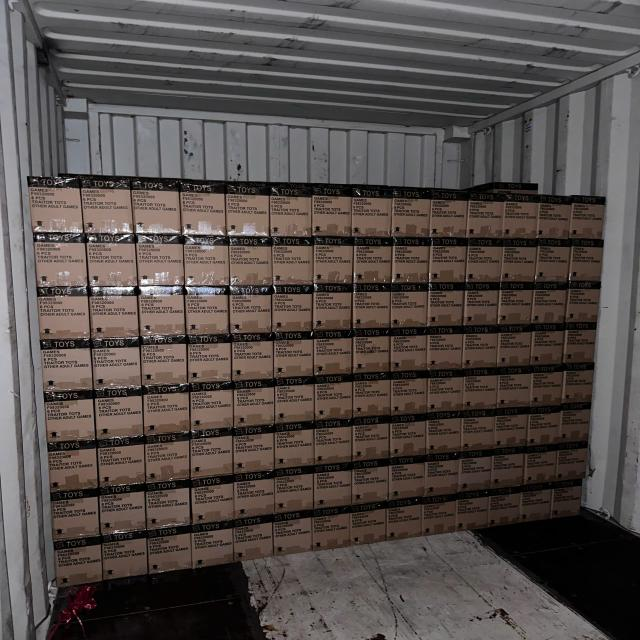Carton: (33, 239, 88, 291), (27, 186, 83, 236), (130, 183, 180, 235), (81, 186, 133, 235), (86, 238, 137, 287), (37, 294, 91, 340), (225, 185, 271, 239), (89, 291, 140, 339), (180, 186, 228, 237), (47, 444, 99, 491), (40, 346, 93, 392), (135, 240, 183, 289), (138, 288, 185, 338), (53, 540, 103, 587), (44, 398, 96, 442), (184, 240, 231, 288), (50, 494, 100, 538), (94, 395, 142, 440), (186, 289, 230, 337), (270, 189, 313, 238), (91, 346, 141, 388), (96, 444, 146, 486), (229, 288, 273, 335), (101, 538, 148, 582), (140, 343, 188, 386), (230, 241, 273, 288), (144, 394, 192, 436), (146, 440, 192, 483), (272, 241, 314, 288), (98, 491, 146, 532), (311, 190, 352, 238), (429, 190, 470, 238), (352, 189, 392, 238), (391, 188, 431, 237), (188, 341, 233, 384), (272, 288, 314, 334), (148, 532, 194, 574), (467, 190, 506, 239), (233, 382, 276, 426), (191, 387, 235, 430), (192, 480, 236, 523), (232, 336, 274, 381), (192, 434, 234, 479), (233, 430, 275, 474), (312, 241, 353, 286), (193, 526, 236, 568), (146, 488, 193, 526), (273, 335, 314, 378), (312, 334, 353, 376), (312, 289, 352, 332), (353, 242, 392, 286), (234, 478, 276, 518), (276, 428, 316, 470), (276, 380, 316, 422), (352, 288, 391, 330), (431, 242, 469, 285), (393, 242, 430, 286), (232, 524, 272, 564), (314, 378, 353, 419), (502, 192, 536, 239), (390, 287, 428, 329), (352, 332, 390, 374), (569, 238, 605, 282), (275, 474, 314, 514), (352, 377, 391, 416), (390, 332, 428, 372), (422, 494, 457, 537), (314, 426, 352, 465), (315, 471, 354, 509), (312, 512, 351, 550), (274, 516, 313, 554), (430, 287, 466, 328), (466, 242, 502, 283), (389, 419, 427, 457), (429, 331, 465, 371), (352, 465, 388, 505), (463, 287, 498, 328), (498, 284, 533, 325), (390, 377, 427, 415), (388, 461, 426, 498), (352, 423, 390, 460), (558, 402, 592, 443), (462, 331, 498, 369), (562, 362, 595, 403), (502, 247, 536, 286), (427, 372, 461, 411), (537, 242, 570, 282), (351, 508, 386, 545), (461, 413, 495, 451), (428, 416, 462, 454), (465, 371, 499, 409), (570, 202, 604, 240), (497, 332, 532, 368), (425, 458, 459, 495), (498, 372, 532, 409), (533, 288, 566, 326), (566, 288, 599, 325), (537, 203, 570, 240), (387, 506, 422, 540), (459, 455, 492, 491), (564, 329, 596, 366), (532, 370, 564, 407), (527, 412, 561, 446), (531, 332, 564, 367), (557, 446, 589, 482), (492, 453, 524, 489), (495, 412, 527, 448), (528, 451, 560, 487), (489, 494, 522, 528), (457, 497, 489, 531), (521, 488, 552, 522), (552, 486, 582, 518)
